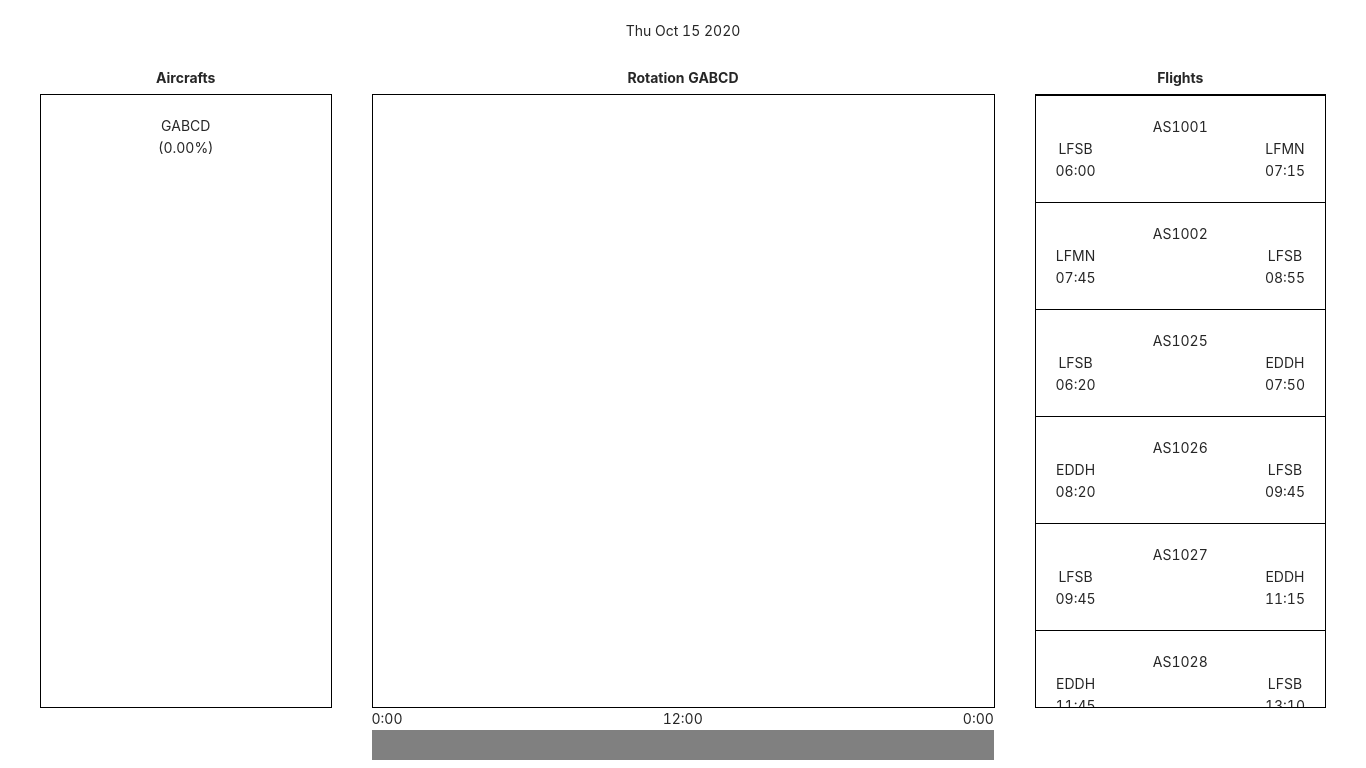
FlightScheduler › As a user I can see the rotation update whenever I add or remove a flight
Click the text "AS1001": (1180, 126) [1153, 118, 1208, 135]
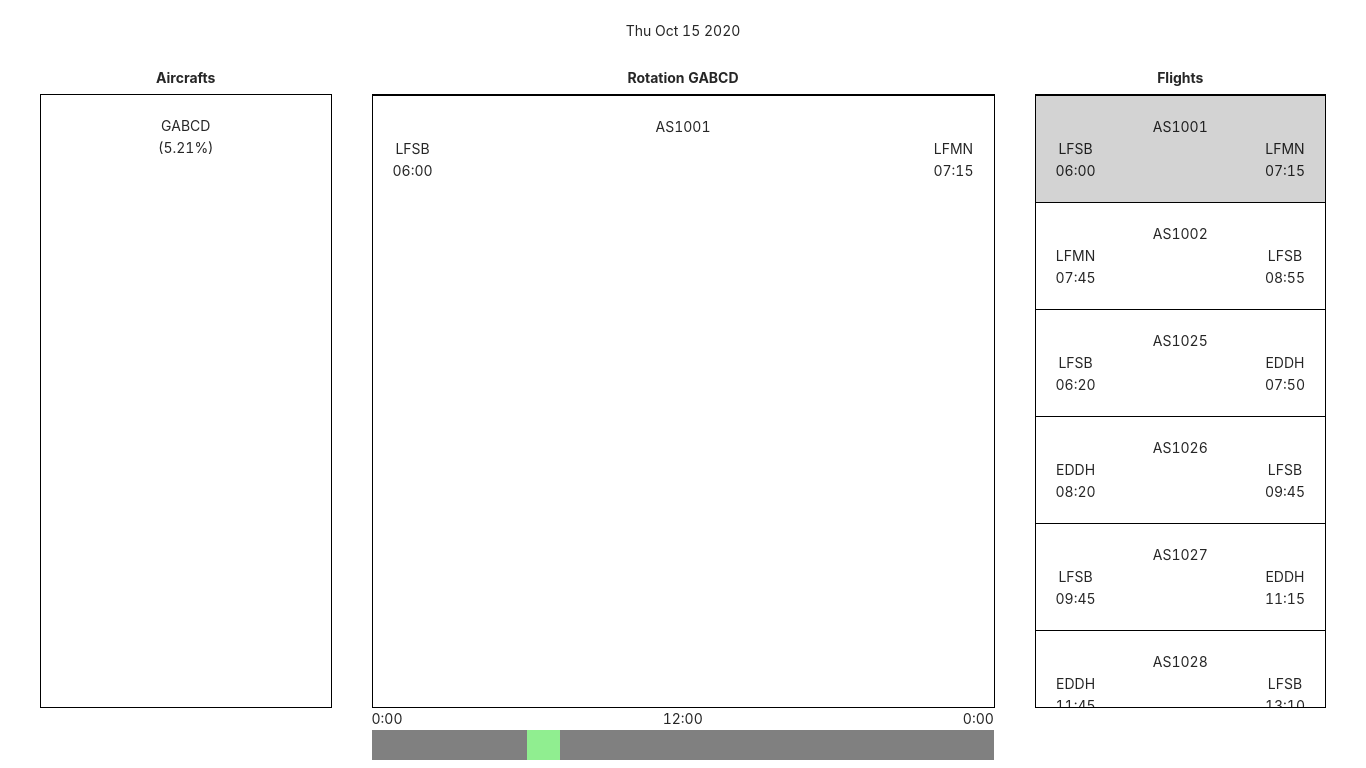
Expected: the text "AS1001" is shown 2 times
Click the text "AS1001" below "Rotation GABCD": (683, 126) [656, 118, 710, 135]
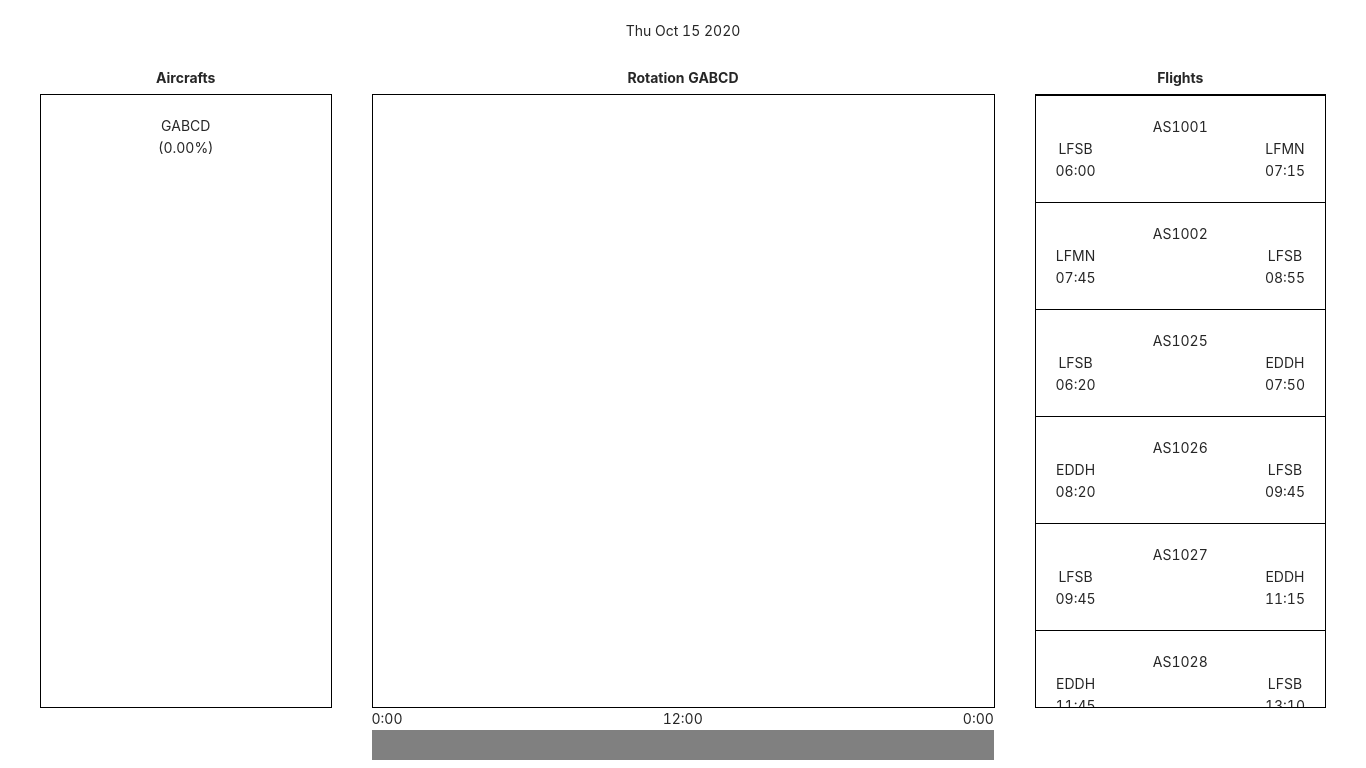
Expected: the text "AS1001" is shown once, [1153, 118, 1208, 135]
